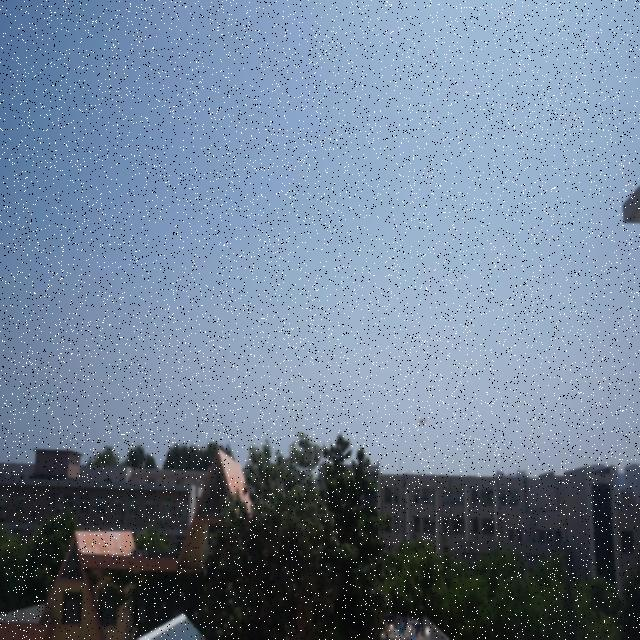UAV: (417, 418, 428, 427)
